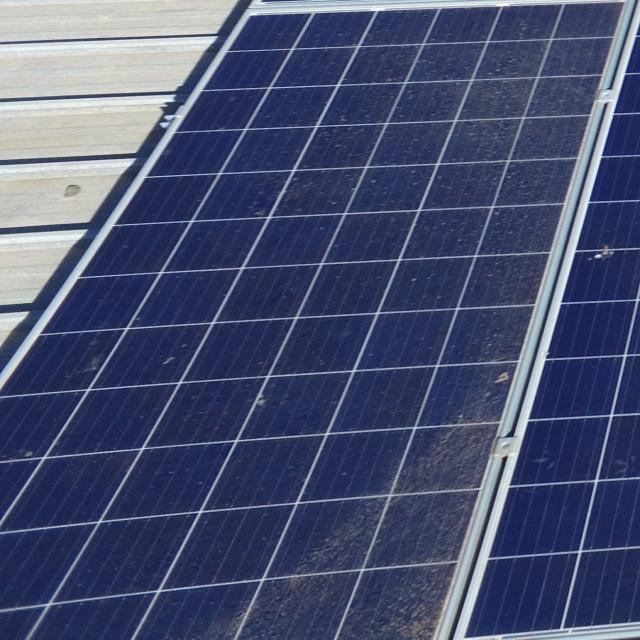Dust: (289, 386, 519, 640), (424, 2, 610, 254), (219, 514, 469, 640)
bird-droppings: (583, 242, 626, 266), (481, 365, 514, 387), (156, 350, 187, 372), (242, 392, 276, 411), (16, 443, 50, 461)
